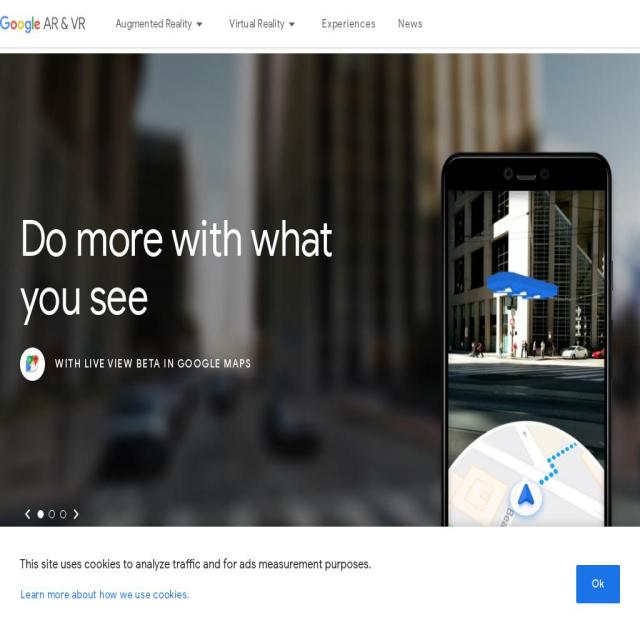button: (20, 575, 205, 615), (0, 12, 86, 36), (576, 565, 620, 603), (68, 504, 84, 524), (20, 504, 35, 524)
heading: (20, 209, 334, 327)
image: (0, 53, 640, 566), (432, 143, 620, 639), (0, 15, 86, 34), (68, 504, 84, 524), (20, 504, 35, 524), (25, 354, 40, 374)
link: (322, 0, 376, 48), (398, 0, 423, 48)
text: (20, 556, 371, 572), (55, 354, 251, 374), (116, 15, 192, 33), (230, 15, 284, 33), (284, 13, 300, 34), (192, 13, 207, 34)
